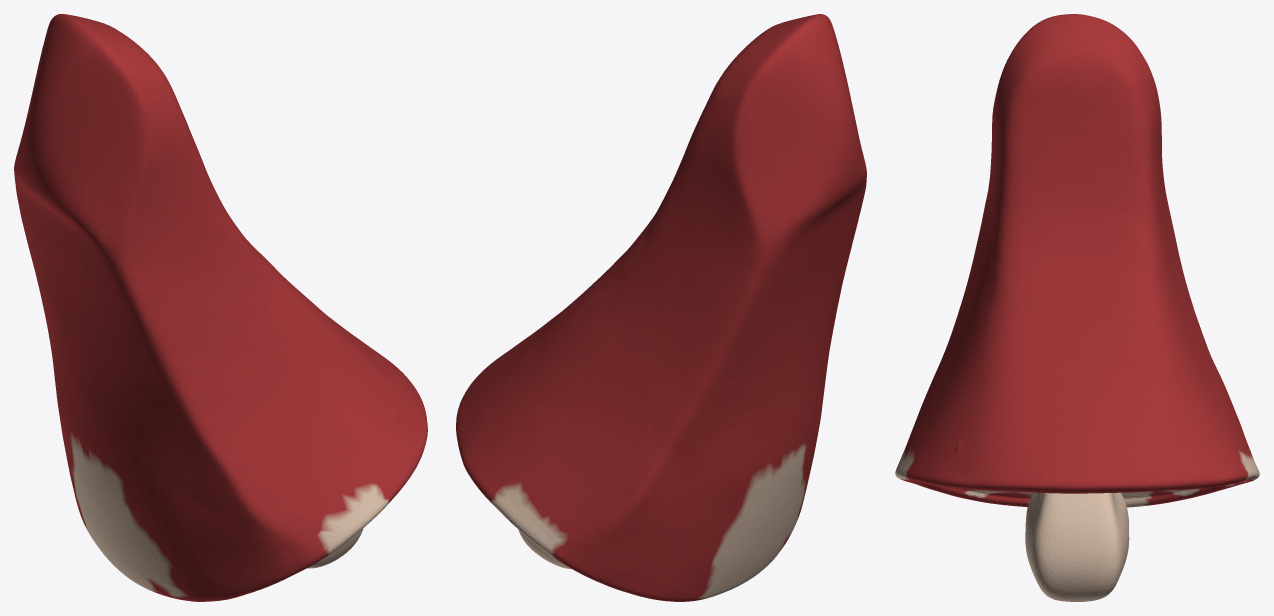
The model's file is arm_L.glb.
3 views of the same model, side by side, from view 1: azimuth 30°, elevation 25°; view 2: azimuth 150°, elevation 25°; view 3: azimuth 270°, elevation 25° (orthographic). The views are drawn at different scales.
Visible parts, largest first — view 1: geometry_0; view 2: geometry_0; view 3: geometry_0.
Boxes of the visible parts, <box> form: geometry_0: <box>14,14,427,601</box>; geometry_0: <box>456,14,866,601</box>; geometry_0: <box>895,14,1259,601</box>.
Bounding box in the file's own units: 0.2938 × 0.4636 × 0.3121.
